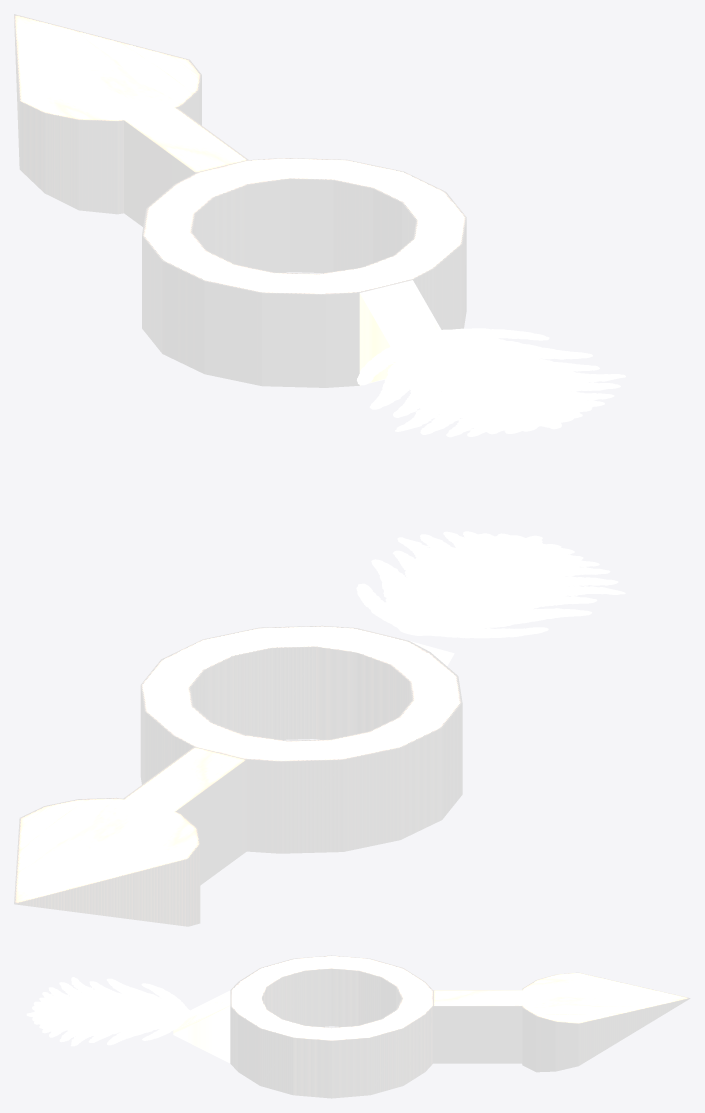
File: cannon_1.glb
The picture shows the model from 3 angles, top to bottom: view 1: azimuth 30°, elevation 25°; view 2: azimuth 150°, elevation 25°; view 3: azimuth 270°, elevation 25°; orthographic projection. The views are drawn at different scales.
Visible parts, largest first — view 1: Arrow, Leaf; view 2: Arrow, Leaf; view 3: Arrow, Leaf.
Part boxes in pixels (left/top/right/bottom): Arrow: left=14, top=14, right=466, bottom=387; Leaf: left=357, top=328, right=625, bottom=437; Arrow: left=14, top=625, right=462, bottom=926; Leaf: left=356, top=531, right=625, bottom=638; Arrow: left=173, top=955, right=690, bottom=1098; Leaf: left=26, top=977, right=192, bottom=1046.
Size of the model in its own units: 3.2 by 1 by 10.69.
Materials: 2 (2 with a texture image).
